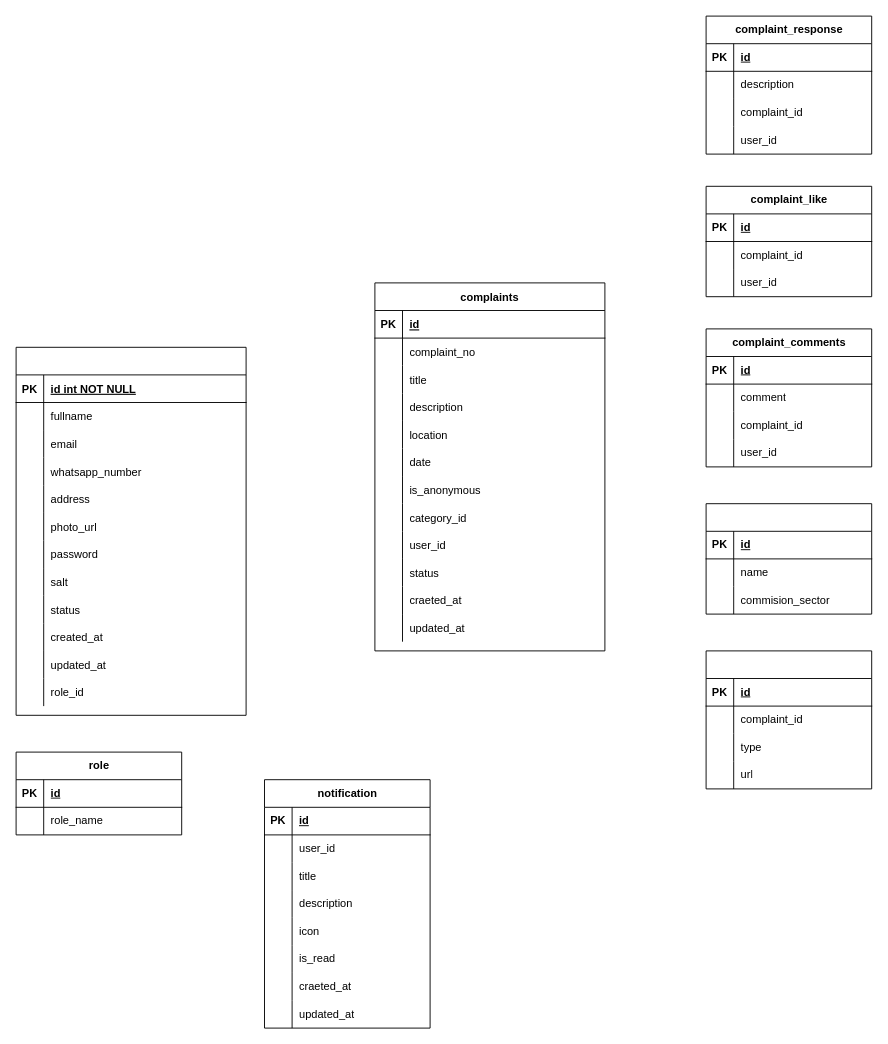
The diagram is 888 pixels wide and 1044 high, and some of its shapes have lost their labels. Each missing label, with the box of its shape:
complaint_category: (705, 503, 872, 614)
complaint_evidence: (705, 650, 872, 789)
users: (15, 346, 246, 715)
